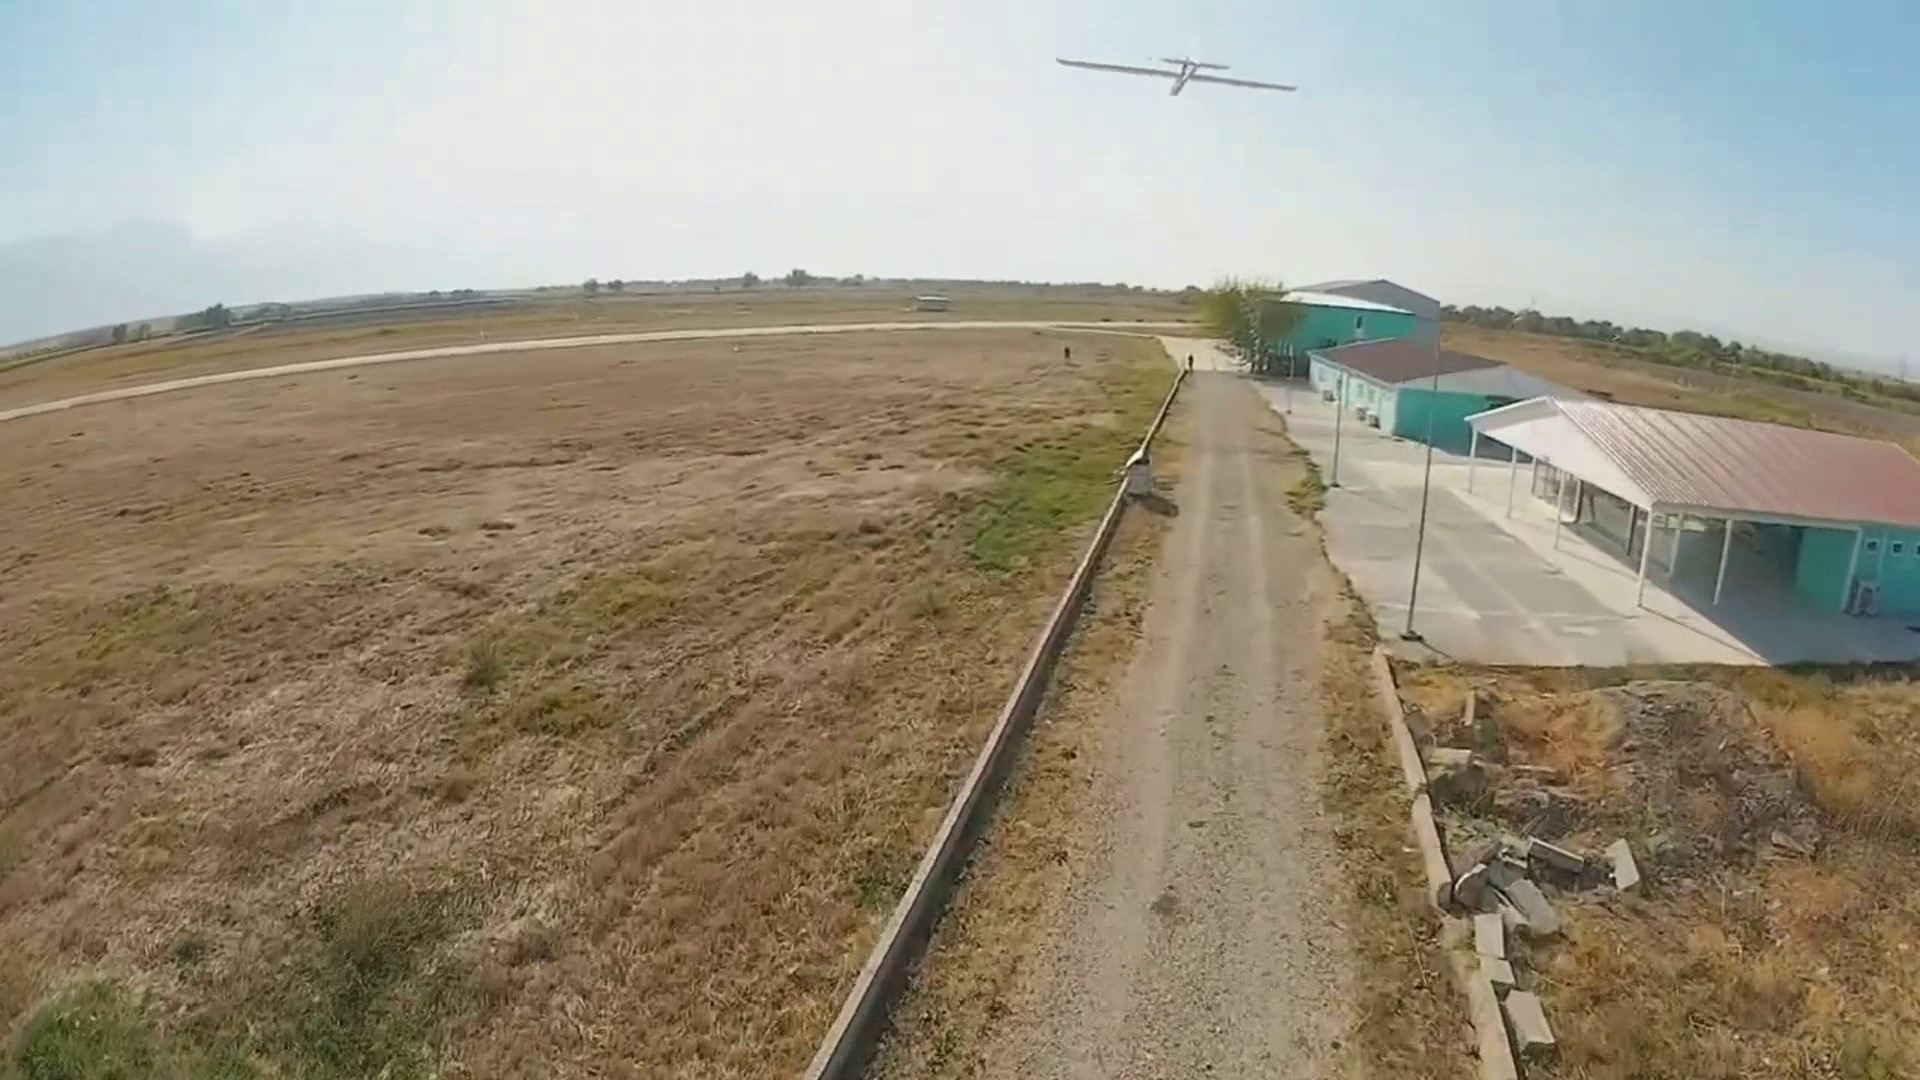airplane: (1056, 50, 1300, 101)
